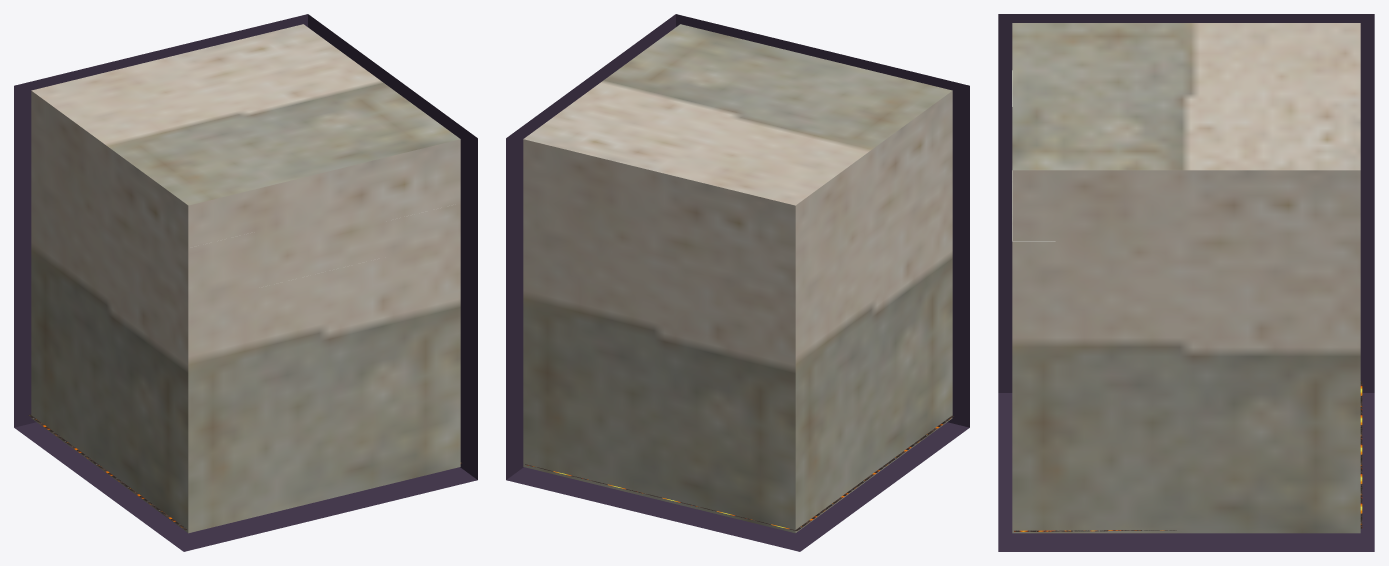
The model's file is PARKOURTRAINING_FIX.fbx.
3 renders of one model, left to right at view 1: azimuth 30°, elevation 25°; view 2: azimuth 150°, elevation 25°; view 3: azimuth 270°, elevation 25°, orthographic. The views are drawn at different scales.
Parts seen in each view (by area): view 1: PhysicsBSP, Sky1100_DemoSkyWorldModel0; view 2: PhysicsBSP, Sky1100_DemoSkyWorldModel0, Ground; view 3: PhysicsBSP, Layout, Sky1100_DemoSkyWorldModel0, Ground.
Part boxes in pixels (x1,y1,x2,y2): PhysicsBSP: (31, 24, 460, 533); Sky1100_DemoSkyWorldModel0: (14, 14, 477, 551); PhysicsBSP: (523, 24, 952, 533); Sky1100_DemoSkyWorldModel0: (506, 14, 969, 551); Ground: (525, 415, 953, 530); PhysicsBSP: (1012, 23, 1360, 532); Layout: (1012, 171, 1359, 533); Sky1100_DemoSkyWorldModel0: (998, 14, 1374, 551); Ground: (1014, 381, 1362, 531).
Size of the model in its own units: 13824 by 15360 by 13824.
11 materials, 11 textured.
